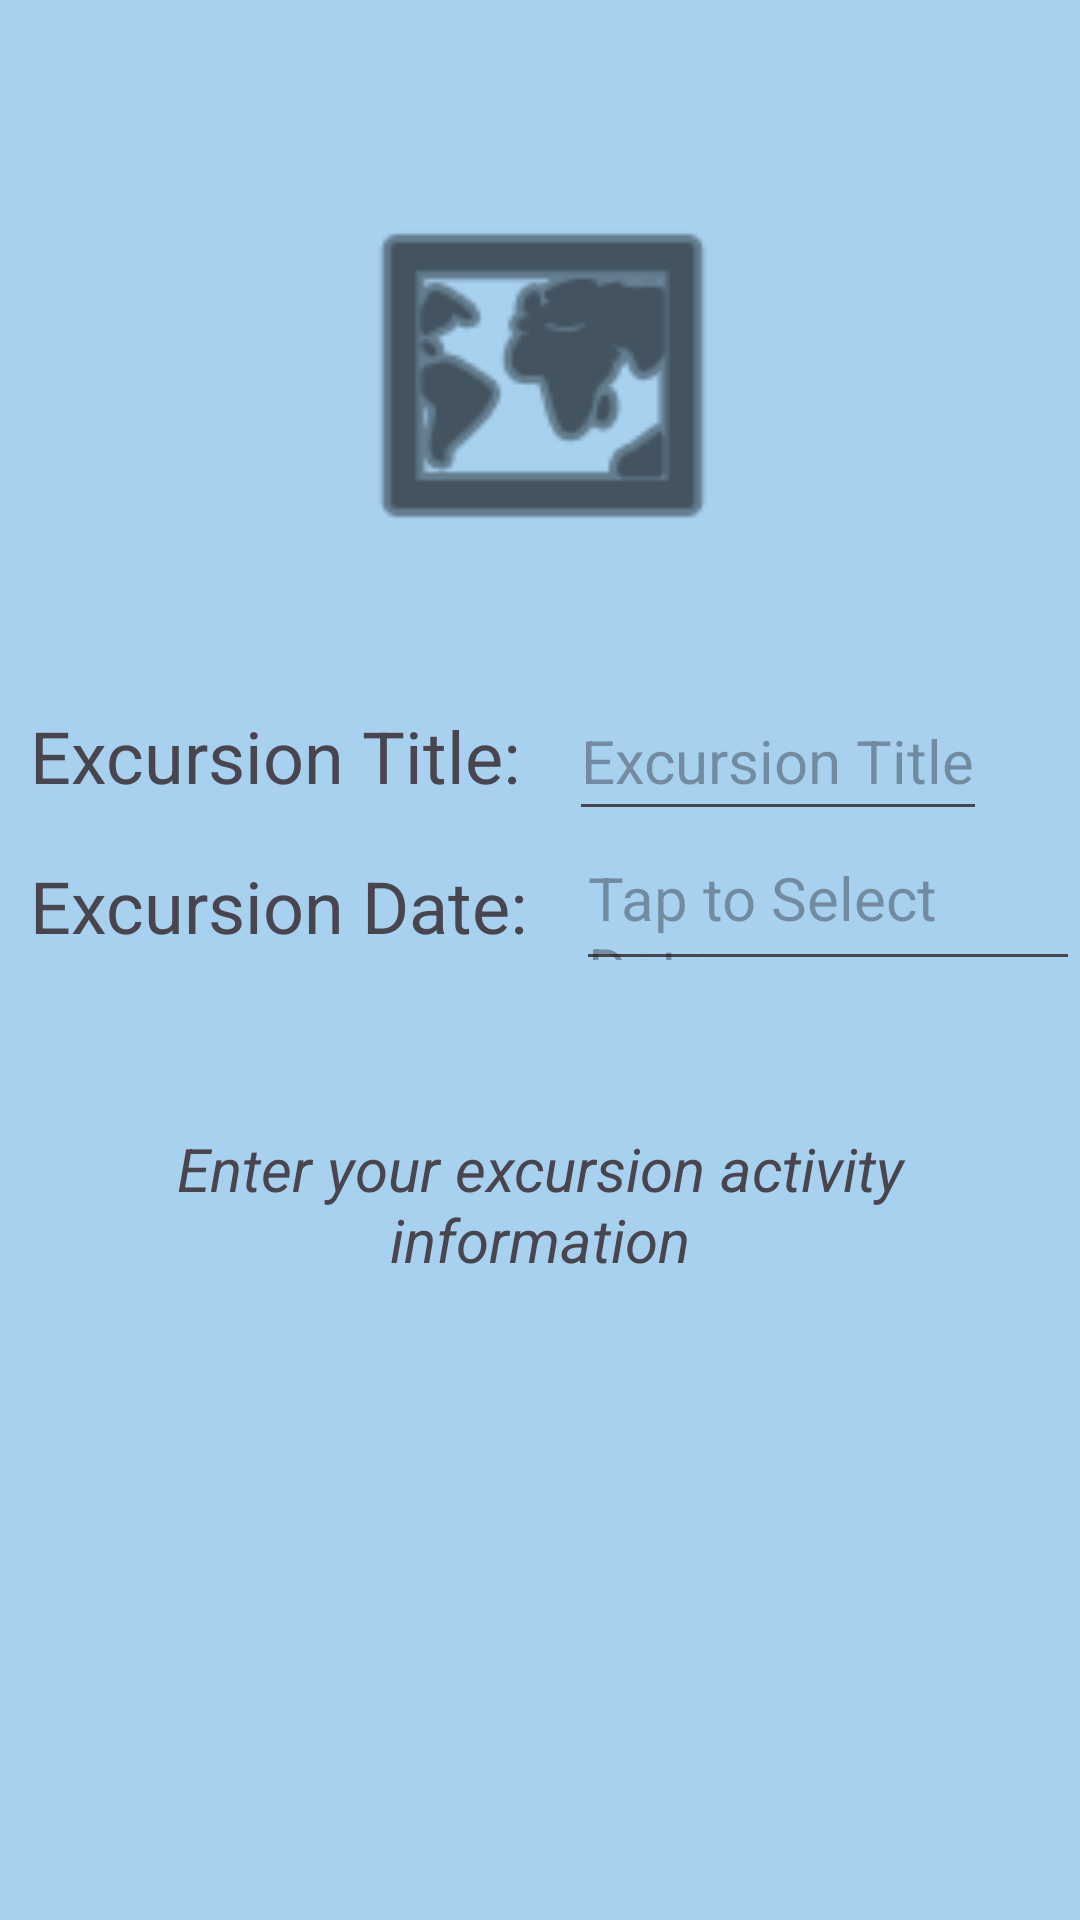

Point at icon controls on the screen. Image size 1080px×1920px, points as (x=x, y=y).
mapmode: (x=542, y=375)
